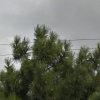Palm tree: (10, 24, 73, 83)
